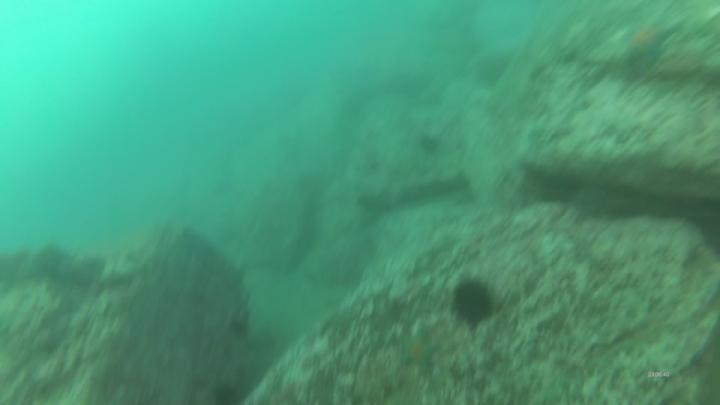echinus: (450, 276, 500, 329)
starfish: (620, 19, 676, 67), (398, 328, 445, 376)
